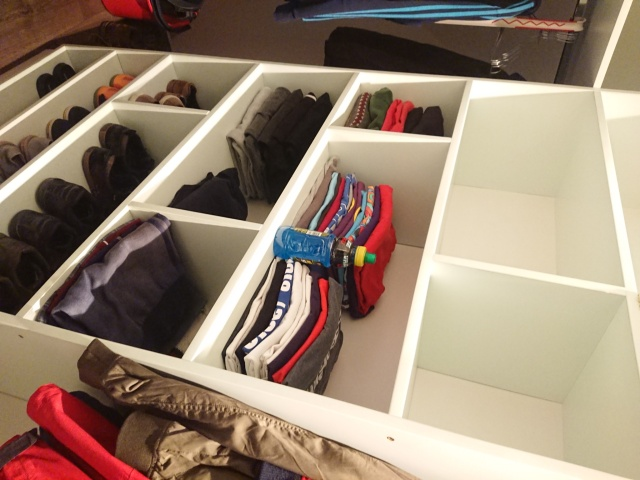Vindi Iso Sport Forest Strawberries 500mL: (271, 224, 377, 268)
